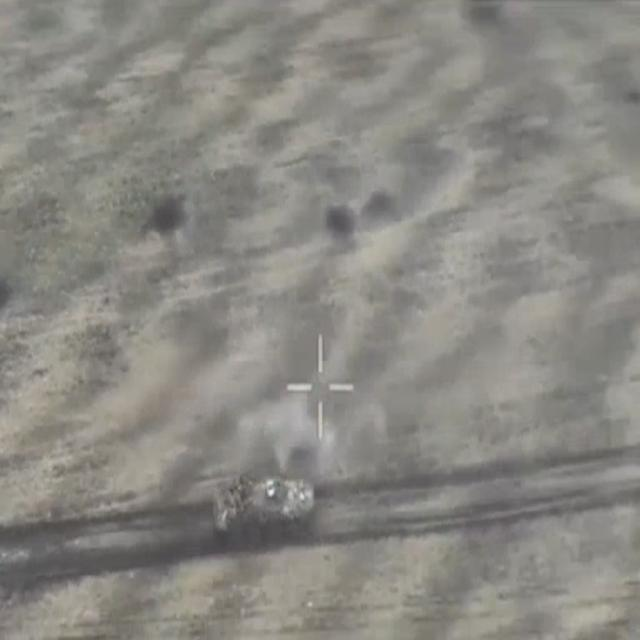vehicle: (210, 472, 315, 544)
